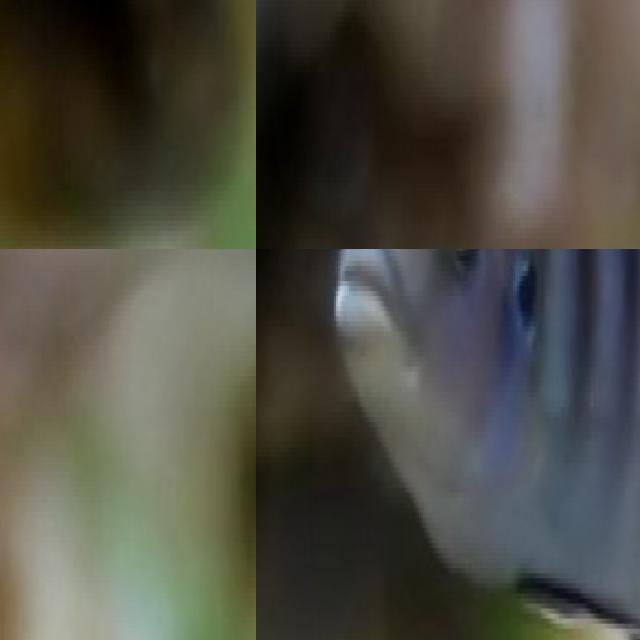fish: (0, 0, 256, 249), (256, 442, 495, 640)
